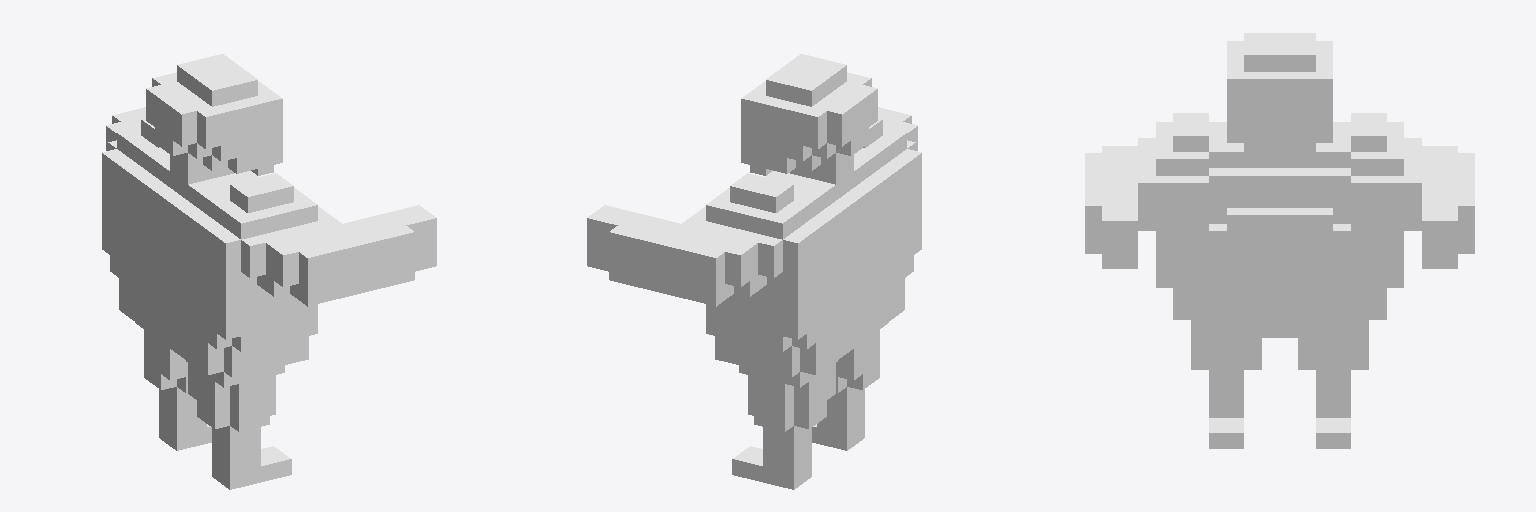
The model's file is subterranean2.obj.
The picture shows the model from 3 angles: view 1: azimuth 30°, elevation 25°; view 2: azimuth 150°, elevation 25°; view 3: azimuth 270°, elevation 25°; orthographic projection.
Visible parts, largest first — view 1: object 1; view 2: object 1; view 3: object 1.
Boxes of the visible parts, x1=… form: object 1: x1=102, y1=54, x2=436, y2=489; object 1: x1=587, y1=54, x2=921, y2=489; object 1: x1=1085, y1=33, x2=1474, y2=448.
Size of the model in its own units: 1.2 by 2.4 by 2.2.